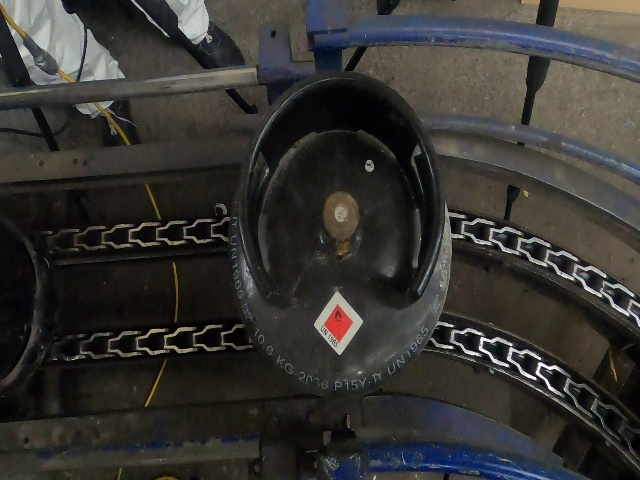gas_bottle: (0, 1, 639, 478)
